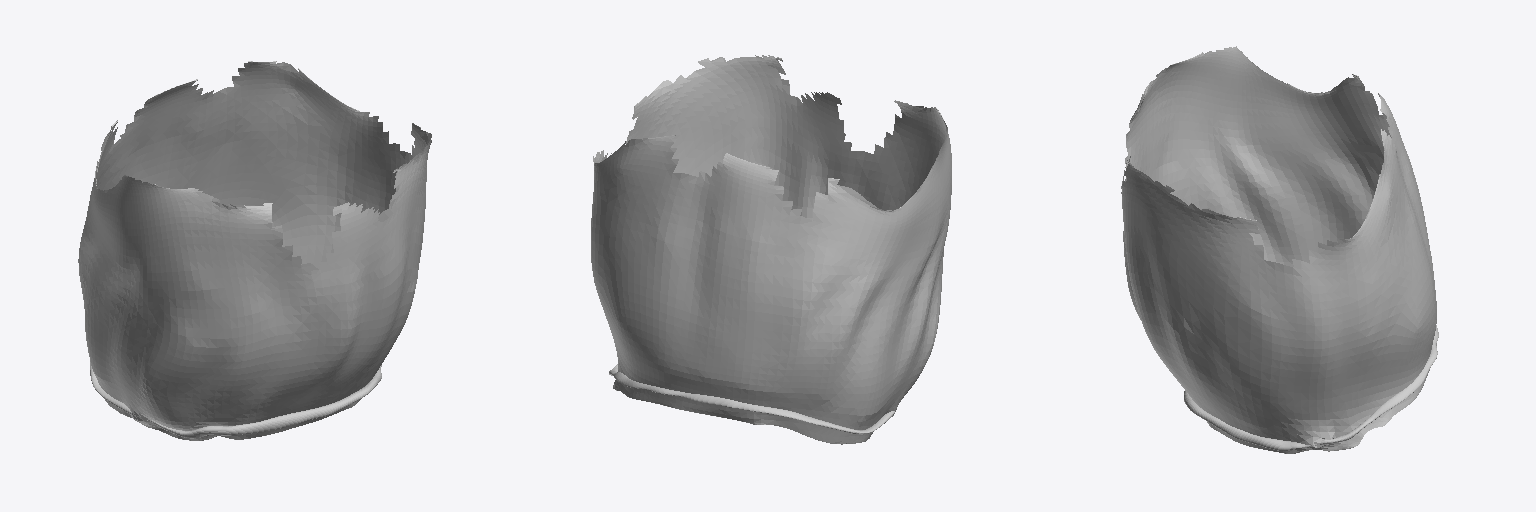
The model's file is cloth.OBJ.
3 renders of one model, left to right at view 1: azimuth 30°, elevation 25°; view 2: azimuth 150°, elevation 25°; view 3: azimuth 270°, elevation 25°, orthographic.
Visible parts, largest first — view 1: Group64648, Group10057, Group63578; view 2: Group64648, Group10057, Group63578, Group30762; view 3: Group64648, Group10057, Group63578, Group30762.
Part boxes in pixels (bbox=[...]): Group64648: bbox=[78, 62, 431, 440]; Group10057: bbox=[95, 62, 430, 414]; Group63578: bbox=[90, 362, 381, 438]; Group64648: bbox=[591, 55, 951, 442]; Group10057: bbox=[594, 55, 946, 410]; Group63578: bbox=[609, 364, 894, 434]; Group30762: bbox=[594, 96, 947, 443]; Group64648: bbox=[1121, 46, 1436, 453]; Group10057: bbox=[1125, 47, 1393, 269]; Group63578: bbox=[1184, 325, 1438, 450]; Group30762: bbox=[1172, 52, 1429, 453].
Size of the model in its own units: 2.51 by 2.31 by 2.25.